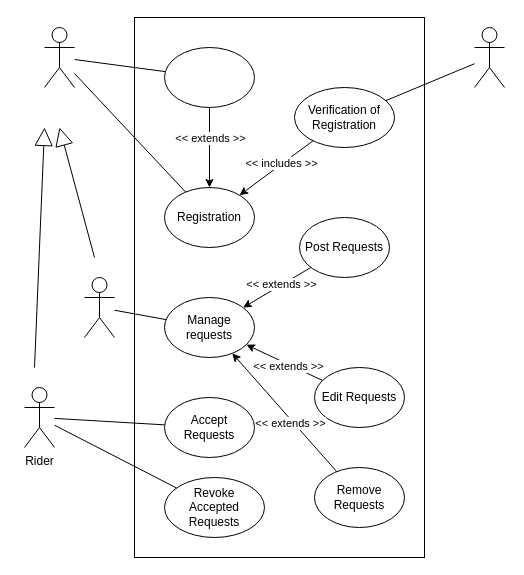
Image size: 524x575. Some labels were removed from this diagram. Here are the shapes that lost their labels. From the top down, the centre of each, then its label:
point 59,57: User
point 209,77: Login
point 489,57: Admin
point 99,307: Seller
